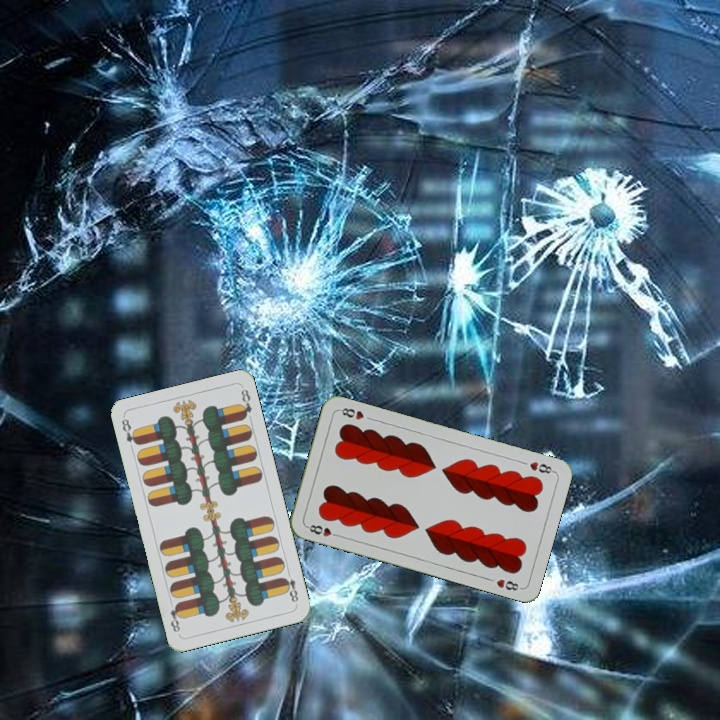E8: (279, 567, 301, 605), (117, 414, 141, 448)
H8: (303, 520, 343, 540), (525, 457, 557, 476)
